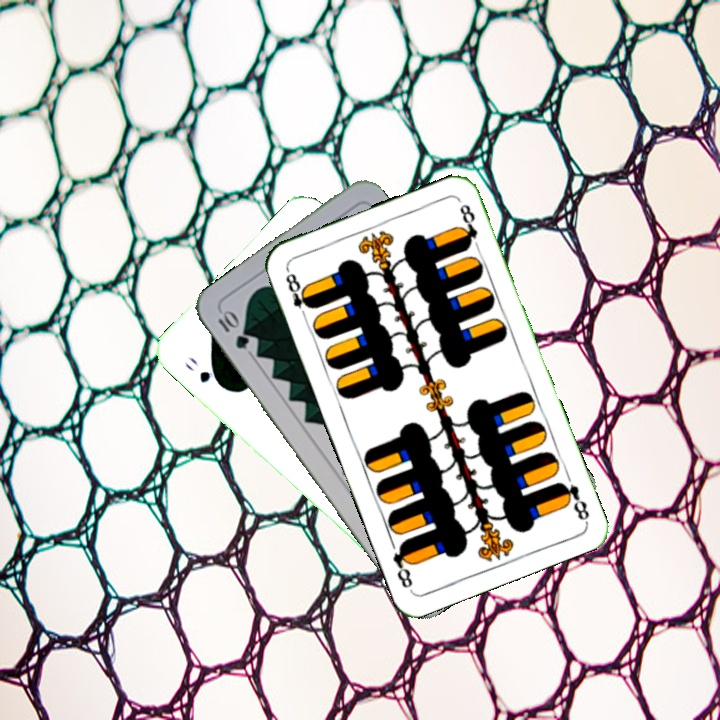E8: (281, 265, 316, 322), (554, 478, 592, 524)
G10: (213, 306, 252, 352)
GO: (179, 352, 226, 391)
